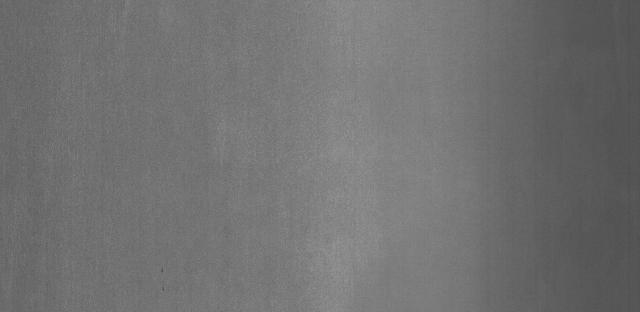inclusion: (156, 258, 166, 299)
